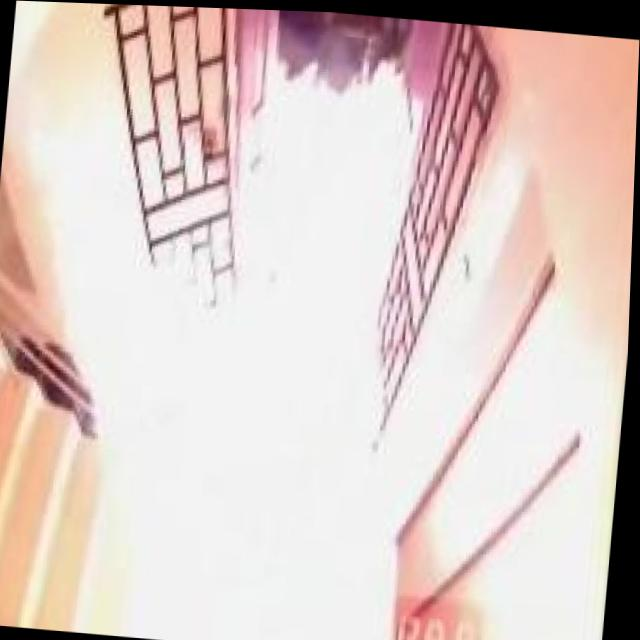fire: (65, 31, 451, 640)
